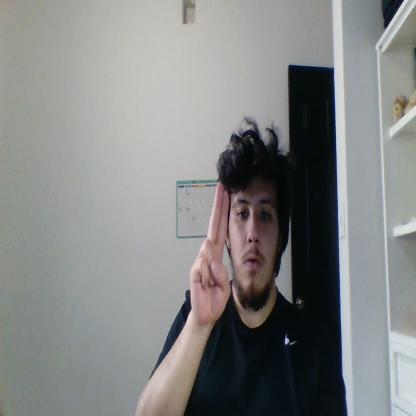U: (189, 182, 230, 322)
